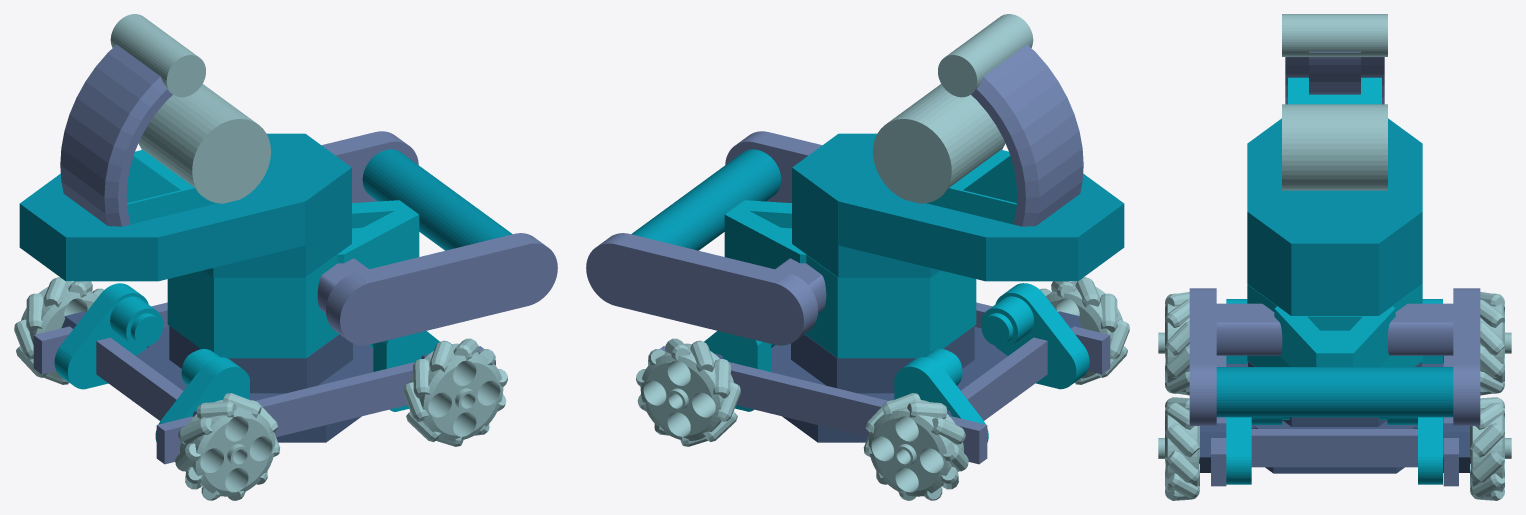
Rendered from bot-mecanum-blue-shooter.glb.
3 views of the same model, side by side, from view 1: azimuth 30°, elevation 25°; view 2: azimuth 150°, elevation 25°; view 3: azimuth 270°, elevation 25° (orthographic). The views are drawn at different scales.
Parts seen in each view (by area): view 1: Mesh_Mesh_head_geo.001_lambert2SG.001; view 2: Mesh_Mesh_head_geo.001_lambert2SG.001; view 3: Mesh_Mesh_head_geo.001_lambert2SG.001.
Boxes of the visible parts, left/top/right/bottom form: Mesh_Mesh_head_geo.001_lambert2SG.001: left=14, top=14, right=557, bottom=500; Mesh_Mesh_head_geo.001_lambert2SG.001: left=586, top=14, right=1129, bottom=500; Mesh_Mesh_head_geo.001_lambert2SG.001: left=1158, top=14, right=1511, bottom=500.
Size of the model in its own units: 0.0312 by 0.0273 by 0.023.
